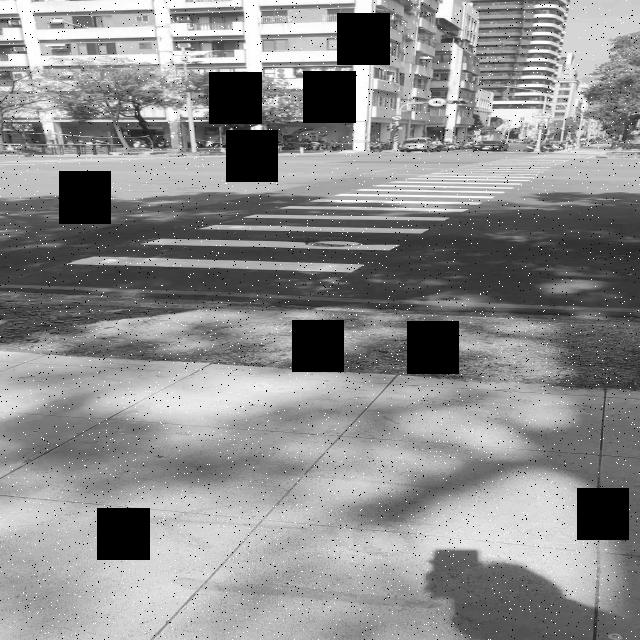zebra crossing: (75, 157, 566, 274)
